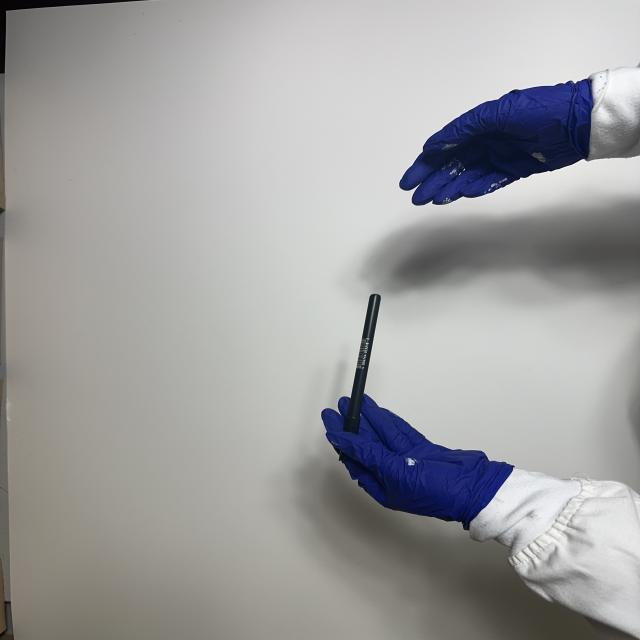gloves_contaminated: (322, 395, 512, 525), (400, 80, 594, 204)
